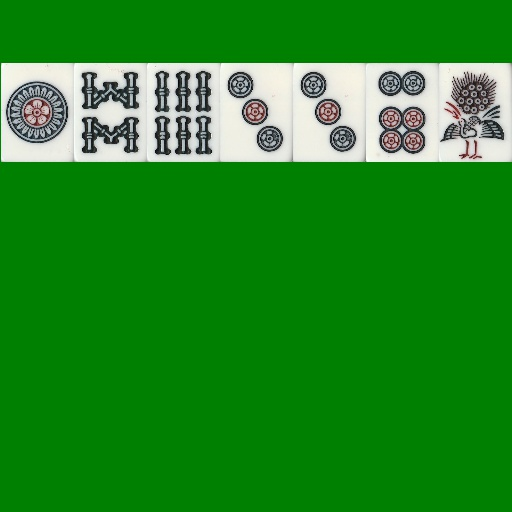1p: (1, 63, 74, 162)
1s: (439, 63, 512, 162)
3p: (220, 63, 293, 162), (293, 63, 366, 162)
6p: (366, 63, 439, 162)
6s: (147, 63, 220, 162)
8s: (74, 63, 147, 162)
